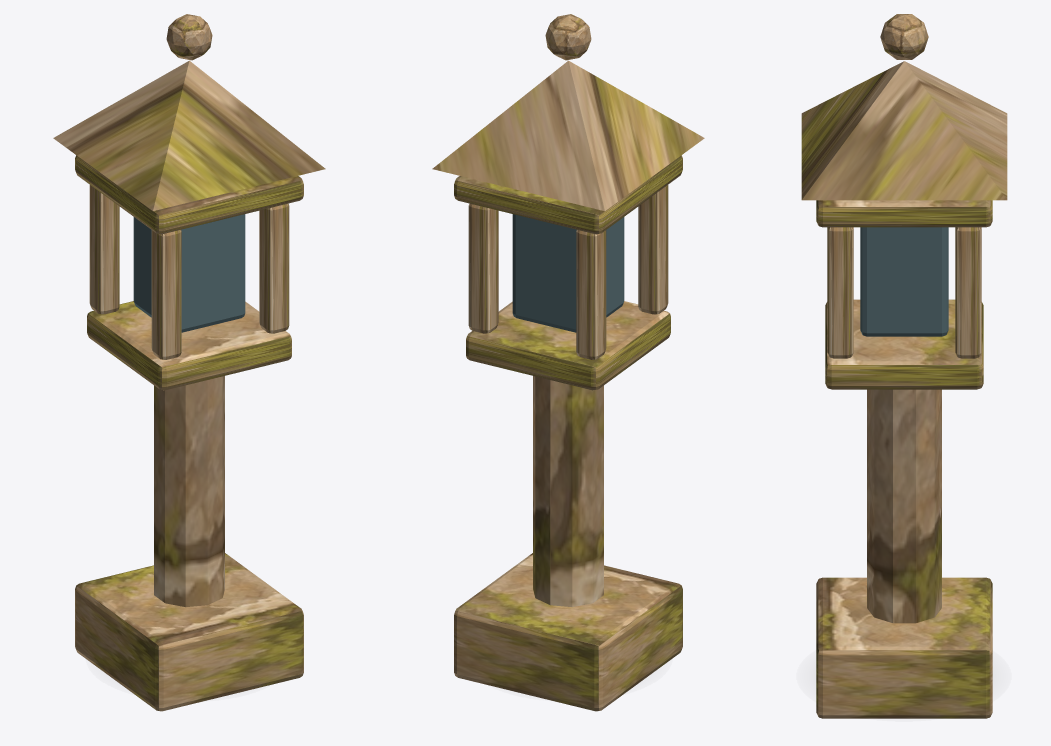
The model's file is stone-lantern.glb.
The picture shows the model from 3 angles, left to right: view 1: azimuth 30°, elevation 25°; view 2: azimuth 150°, elevation 25°; view 3: azimuth 270°, elevation 25°; orthographic projection. The views are drawn at different scales.
Parts seen in each view (by area): view 1: base, roof, pillar, shelf, firecore, roofslab, post, post.002, post.001, jewel; view 2: base, roof, pillar, shelf, firecore, roofslab, post.001, post.003, post, jewel; view 3: roof, base, pillar, firecore, shelf, roofslab, post.002, post.003, jewel.
Boxes of the visible parts, left/top/right/bottom form: base: left=75, top=553, right=303, bottom=711; roof: left=53, top=60, right=325, bottom=210; pillar: left=154, top=376, right=224, bottom=607; shelf: left=87, top=301, right=291, bottom=390; firecore: left=133, top=214, right=245, bottom=332; roofslab: left=75, top=155, right=303, bottom=234; post: left=151, top=230, right=181, bottom=359; post.002: left=259, top=203, right=289, bottom=333; post.001: left=89, top=185, right=119, bottom=314; jewel: left=166, top=14, right=212, bottom=60; base: left=454, top=553, right=682, bottom=711; roof: left=432, top=60, right=704, bottom=210; pillar: left=533, top=376, right=603, bottom=607; shelf: left=466, top=301, right=670, bottom=390; firecore: left=512, top=214, right=624, bottom=332; roofslab: left=454, top=155, right=682, bottom=234; post.001: left=576, top=230, right=606, bottom=359; post.003: left=468, top=203, right=498, bottom=333; post: left=638, top=185, right=668, bottom=314; jewel: left=545, top=14, right=591, bottom=60; roof: left=801, top=61, right=1007, bottom=200; base: left=816, top=577, right=992, bottom=718; pillar: left=867, top=389, right=941, bottom=623; firecore: left=860, top=227, right=948, bottom=336; shelf: left=825, top=299, right=983, bottom=389; roofslab: left=816, top=200, right=992, bottom=227; post.002: left=827, top=227, right=853, bottom=358; post.003: left=955, top=227, right=981, bottom=358; jewel: left=880, top=14, right=928, bottom=59.
Bounding box in the file's own units: 0.6 × 1.68 × 0.6.
Materials: 4 (3 with a texture image).
